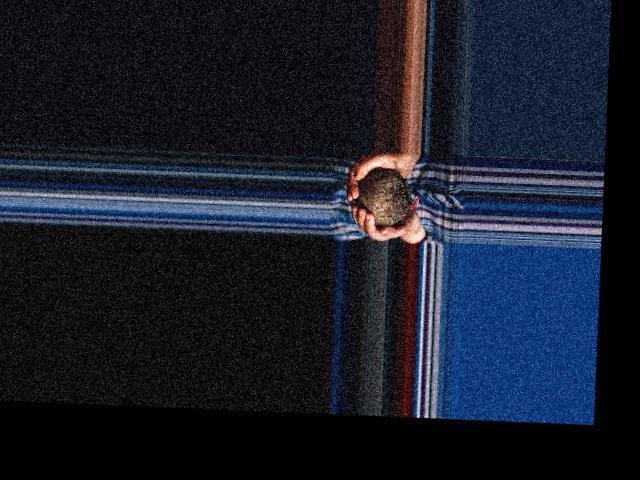beet: (356, 168, 421, 226)
